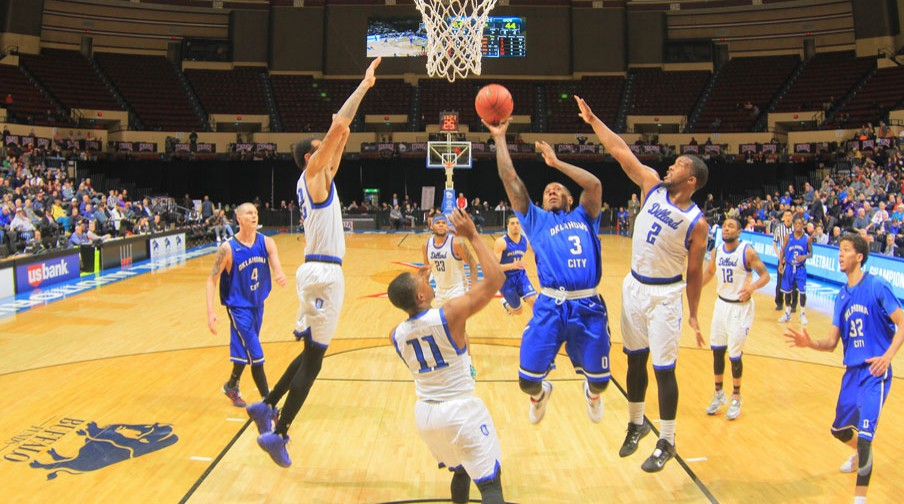basket: (407, 0, 511, 80)
block: (569, 86, 716, 482), (251, 46, 385, 475)
shoot: (474, 114, 615, 433)
